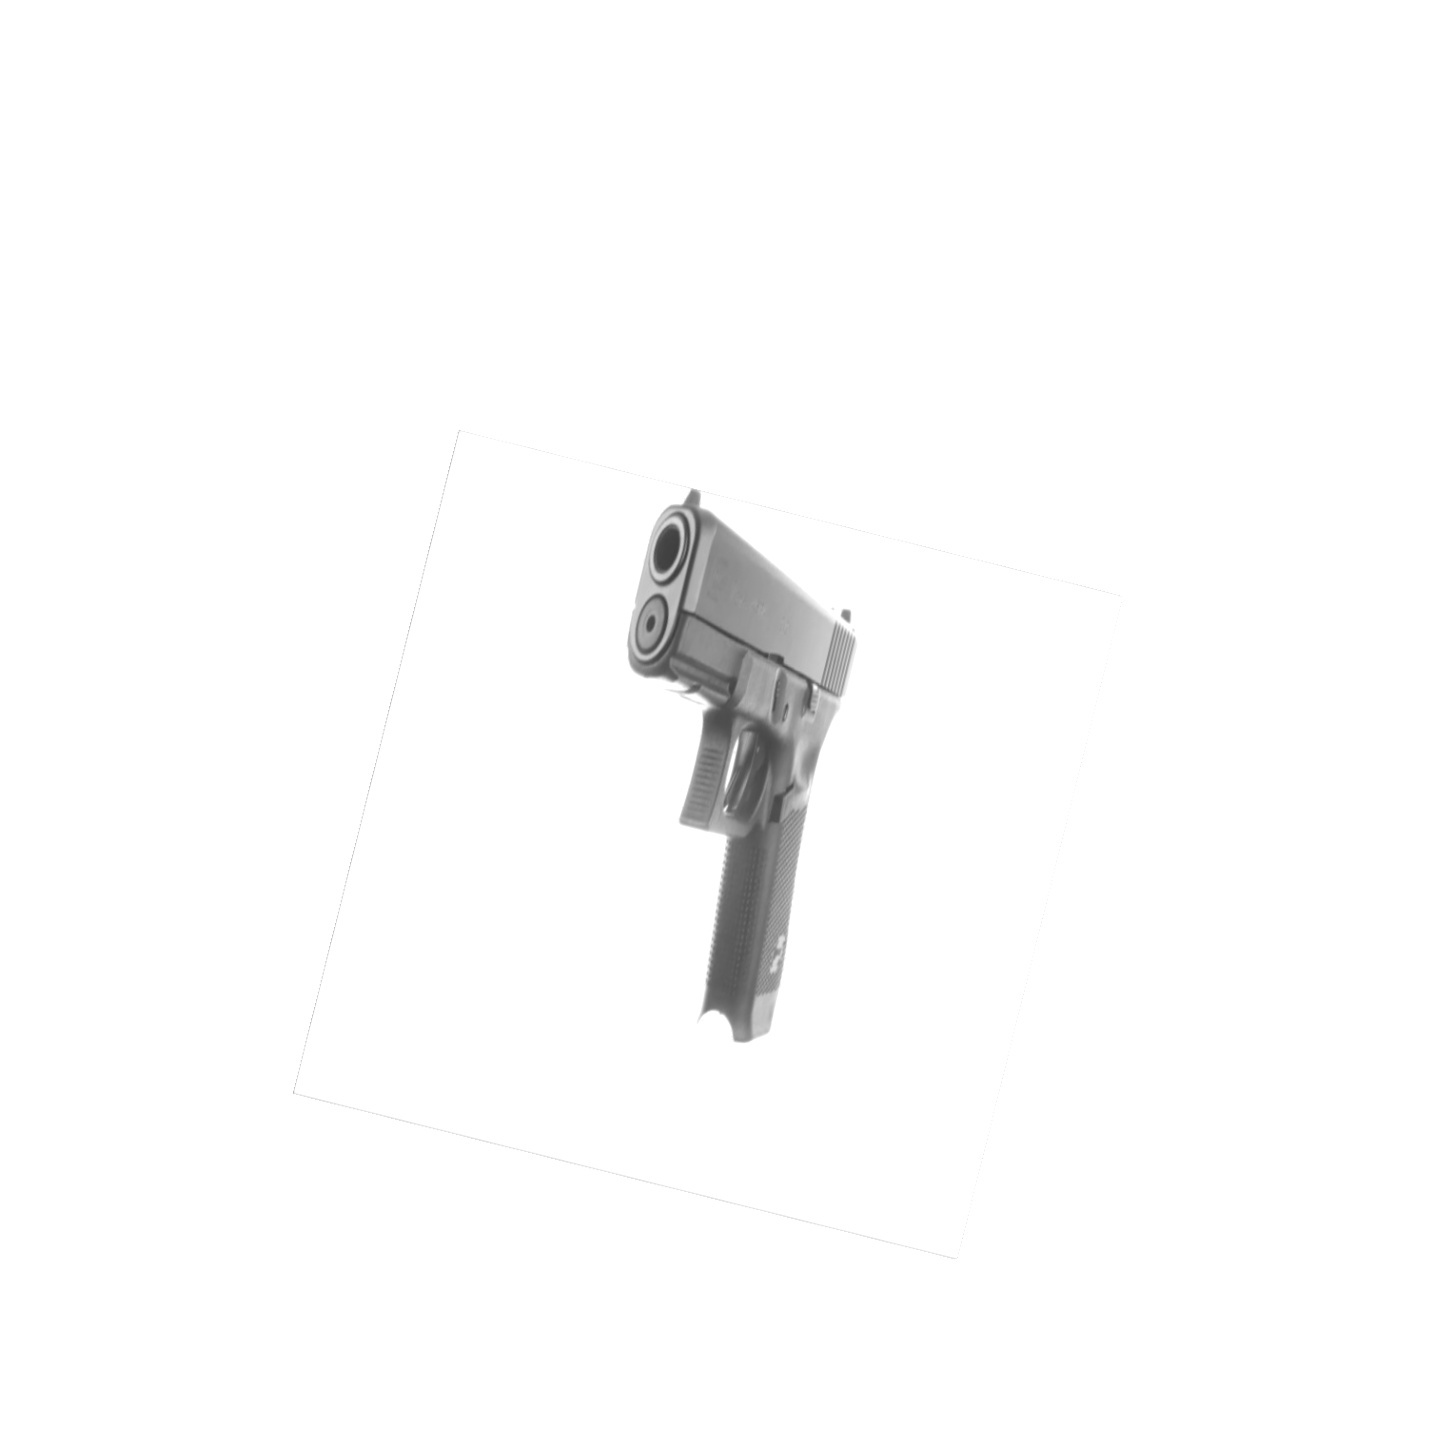gun: (622, 485, 860, 1051)
